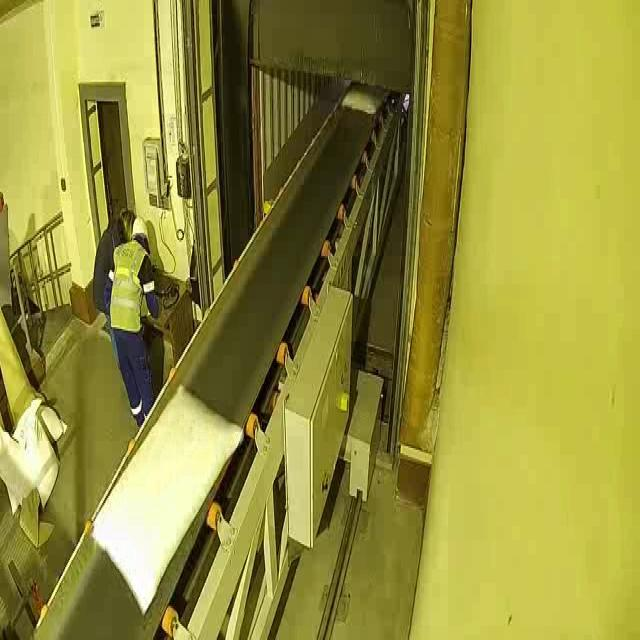bag: (89, 381, 245, 615), (340, 84, 390, 115)
